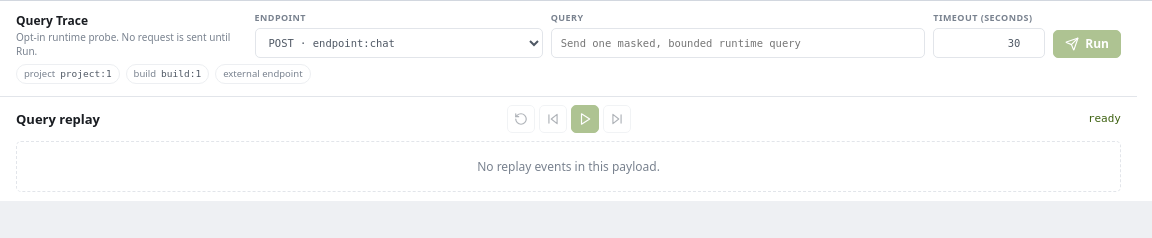
Test: QueryTracePanel › does not replace replay events when backend source_build_id is not the selected build
Step 1. Type "trace once" into the field labelled "Query" → (738, 43), box left=551, top=28, right=925, bottom=58
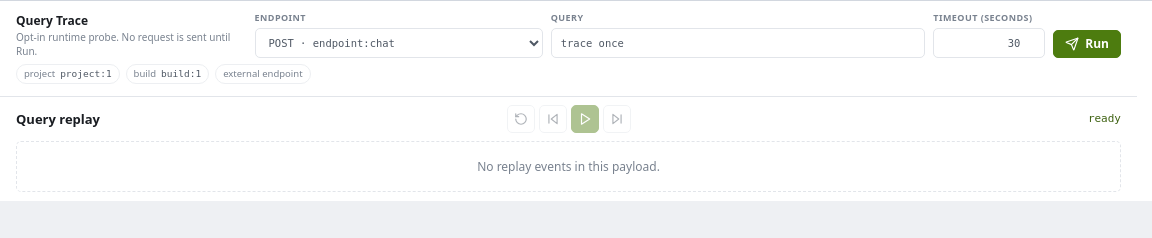
Step 2. Click the button "Run" → (1087, 44), box left=1053, top=30, right=1121, bottom=58
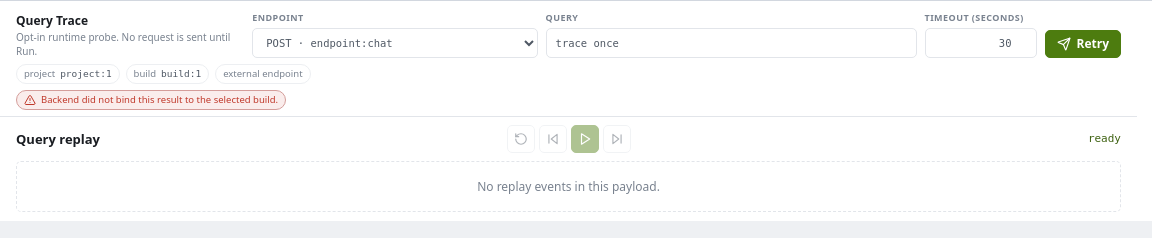
Now the text "Backend did not bind this result to the selected build." is shown, box left=16, top=90, right=286, bottom=110
